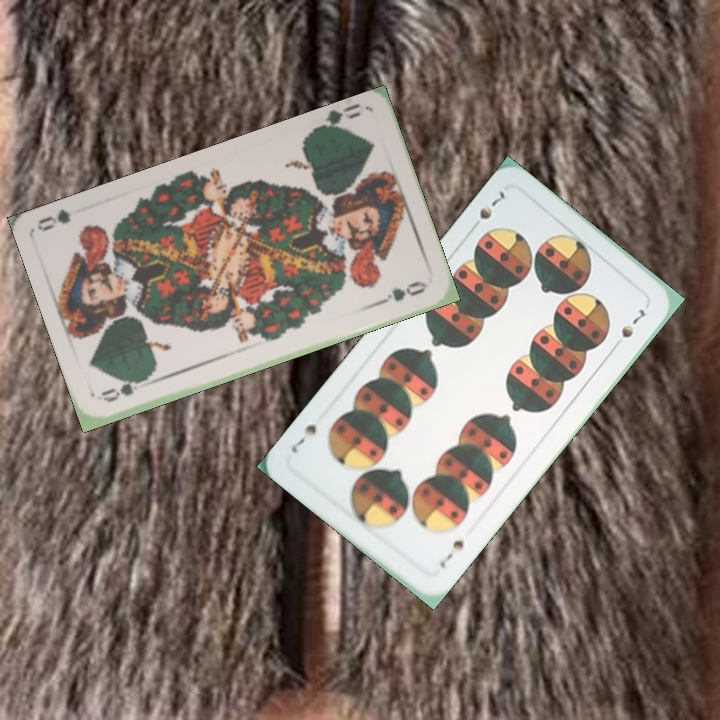GO: (97, 372, 152, 405), (310, 101, 364, 134)
S7: (475, 186, 508, 222), (435, 535, 467, 571)
